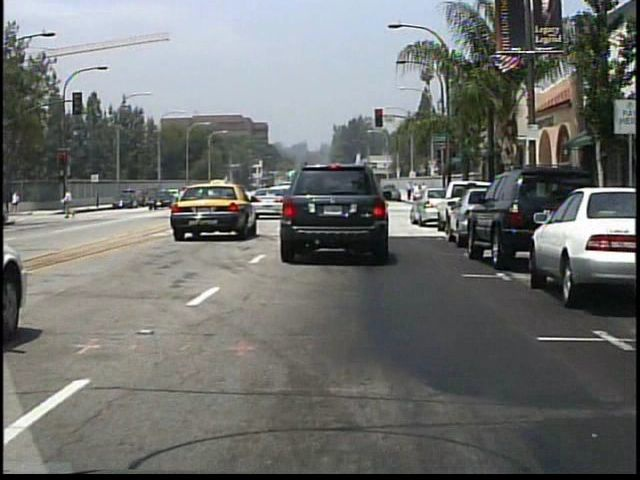person: (407, 182, 427, 215), (63, 186, 77, 221), (10, 189, 22, 215)
